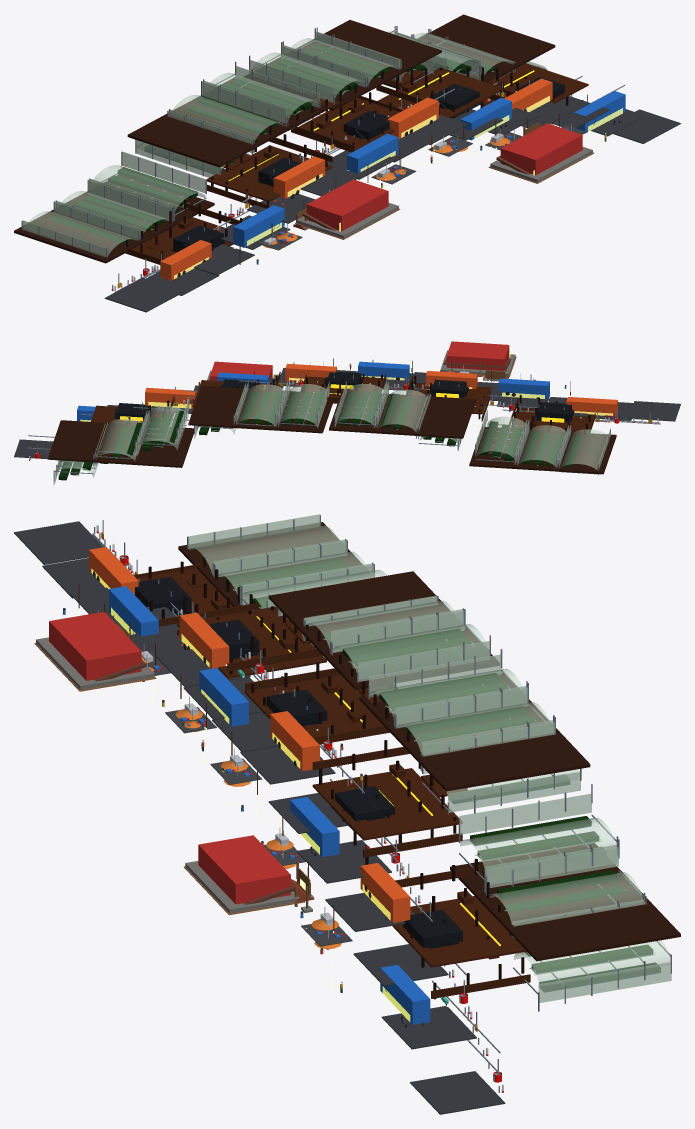
The model's file is ul_w10_02_da_sar_pass_ql27c_cloud_cafes_and_intercity_coach_convoy.glb.
3 views of the same model, one above another, from view 1: azimuth 30°, elevation 25°; view 2: azimuth 150°, elevation 25°; view 3: azimuth 270°, elevation 25° (orthographic). The views are drawn at different scales.
Visible parts, largest first — view 1: ul_w10_02_da_sar_pass_ql27c_cloud_cafes_and_intercity_coach_ (×16); view 2: ul_w10_02_da_sar_pass_ql27c_cloud_cafes_and_intercity_coach_ (×15); view 3: ul_w10_02_da_sar_pass_ql27c_cloud_cafes_and_intercity_coach_ (×16).
Boxes of the visible parts, box(x1,y1,x2,y2) form: ul_w10_02_da_sar_pass_ql27c_cloud_cafes_and_intercity_coach_ (×16): box(14, 14, 680, 312); ul_w10_02_da_sar_pass_ql27c_cloud_cafes_and_intercity_coach_ (×15): box(14, 341, 680, 485); ul_w10_02_da_sar_pass_ql27c_cloud_cafes_and_intercity_coach_ (×16): box(14, 514, 680, 1114).
Bounding box in the file's own units: 143 × 29.47 × 87.44.
